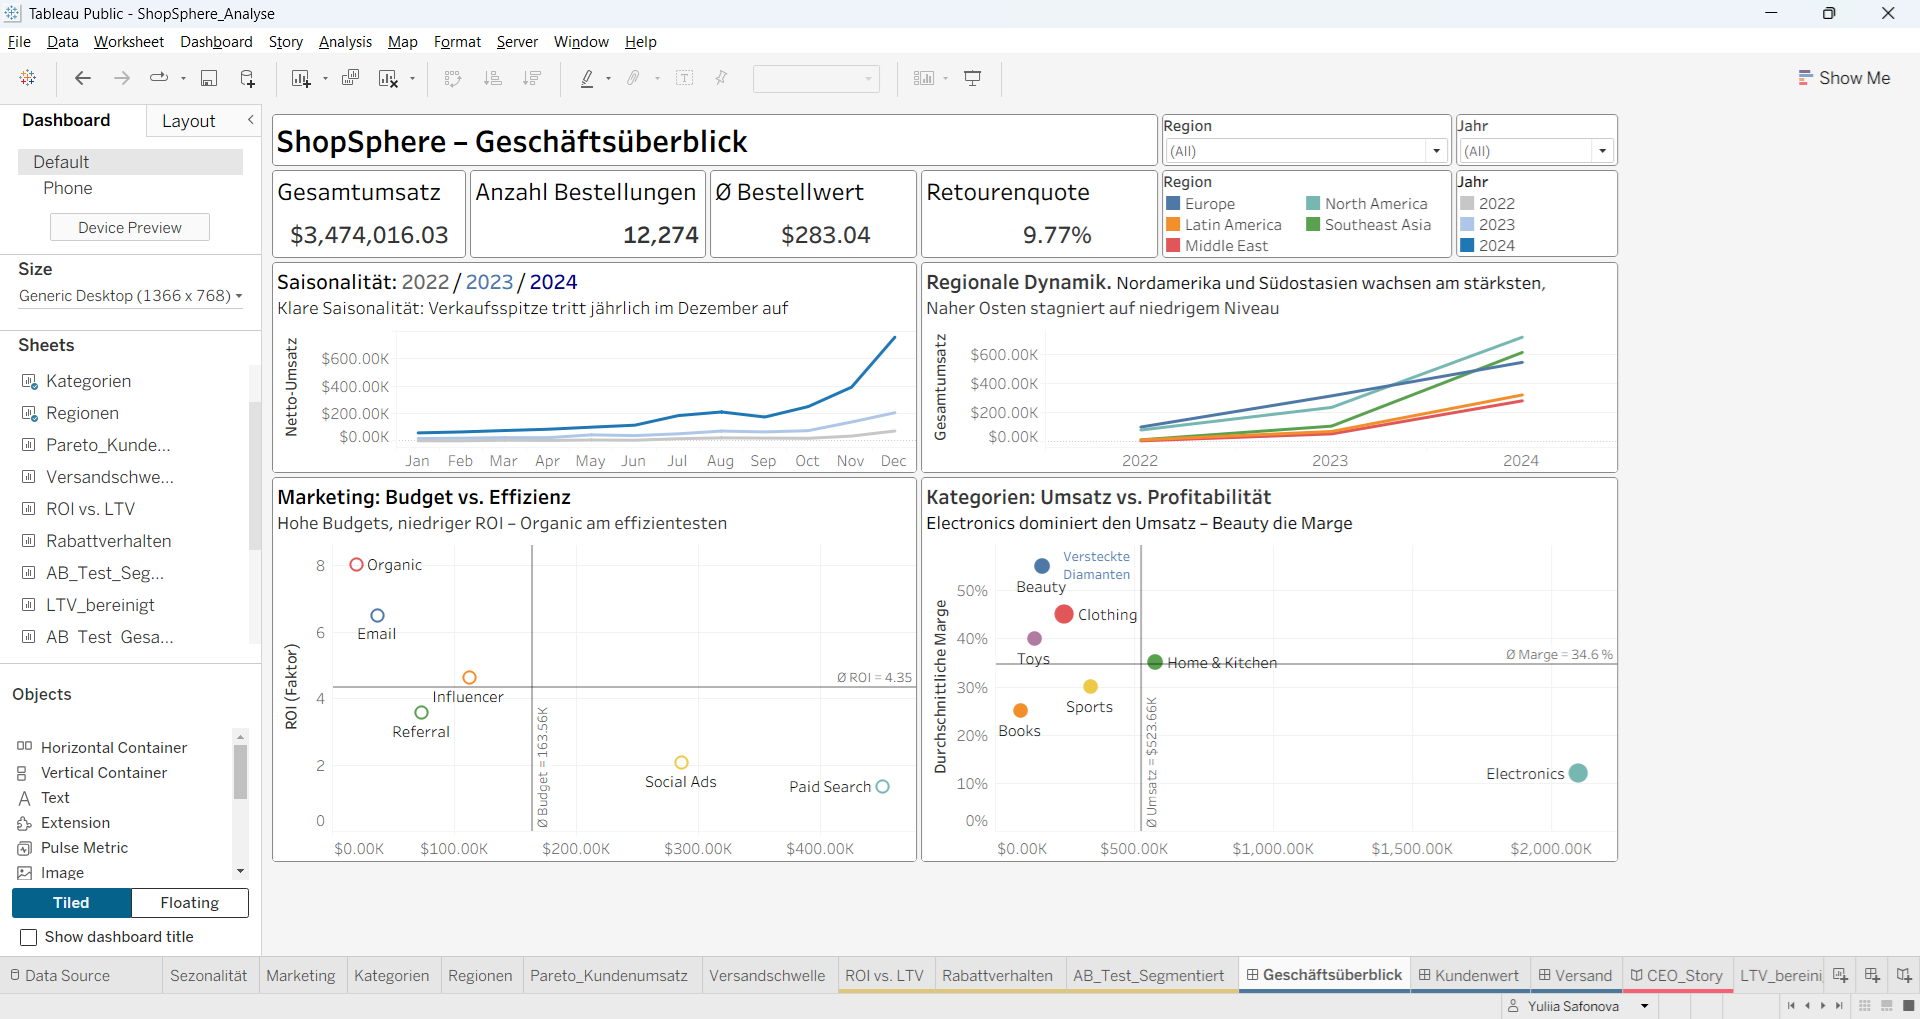

This screenshot's page, from the dashboard's own definition file:
{"tool":"tableau","page":{"name":"Geschäftsüberblick","canvas":[1366,768],"ordinal":0},"visuals":[{"type":"text","box":[8,8,890,56]},{"type":"filter","title":"Regionen","param":"[federated.1g0chgs1h25pfb14zny0c0hhzowp].[none:region:nk]","box":[898,8,294,56]},{"type":"filter","title":"Sezonalität","param":"[federated.1771beu1rz5j4s195cevu06qixh3].[none:order_year:ok]","box":[1192,8,166,56]},{"type":"worksheet","title":"KPI_Umsatz","mark":"Automatic","box":[8,64,198,92]},{"type":"worksheet","title":"KPI_Bestellungen","mark":"Automatic","box":[206,64,240.5,92]},{"type":"worksheet","title":"KPI_Bestellwert","mark":"Automatic","box":[446.5,64,211,92]},{"type":"worksheet","title":"KPI_Retourenquote","mark":"Automatic","box":[657.5,64,240.5,92]},{"type":"legend","title":"Regionen","param":"[federated.1g0chgs1h25pfb14zny0c0hhzowp].[none:region:nk]","box":[898,64,294,92]},{"type":"legend","title":"Sezonalität","param":"[federated.1771beu1rz5j4s195cevu06qixh3].[none:order_year:ok]","box":[1192,64,166,91]},{"type":"worksheet","title":"Sezonalität","mark":"Line","rows":["net_amount"],"cols":["order_date"],"box":[8,156,649,215]},{"type":"worksheet","title":"Regionen","mark":"Line","rows":["total_spent"],"cols":["order_year"],"box":[657,156,701,215]},{"type":"worksheet","title":"Marketing","mark":"Automatic","rows":["roi"],"cols":["total_budget"],"box":[8,371,649,389]},{"type":"worksheet","title":"Kategorien","mark":"Circle","rows":["avg_margin_pct"],"cols":["total_revenue"],"box":[657,371,701,389]}]}

Visuals, with their boxes on the page's 1366x768 design canvas (x1, y1, x2, y2). These are canvas units, not pixel positions in the 1920x1019 screenshot, which may show the page scaled, cropped or inside an application window:
text: box(8, 8, 898, 64)
"Regionen" filter: box(898, 8, 1192, 64)
"Sezonalität" filter: box(1192, 8, 1358, 64)
"KPI_Umsatz" worksheet: box(8, 64, 206, 156)
"KPI_Bestellungen" worksheet: box(206, 64, 446, 156)
"KPI_Bestellwert" worksheet: box(446, 64, 658, 156)
"KPI_Retourenquote" worksheet: box(658, 64, 898, 156)
"Regionen" legend: box(898, 64, 1192, 156)
"Sezonalität" legend: box(1192, 64, 1358, 155)
"Sezonalität" worksheet (Line marks): box(8, 156, 657, 371)
"Regionen" worksheet (Line marks): box(657, 156, 1358, 371)
"Marketing" worksheet: box(8, 371, 657, 760)
"Kategorien" worksheet (Circle marks): box(657, 371, 1358, 760)
